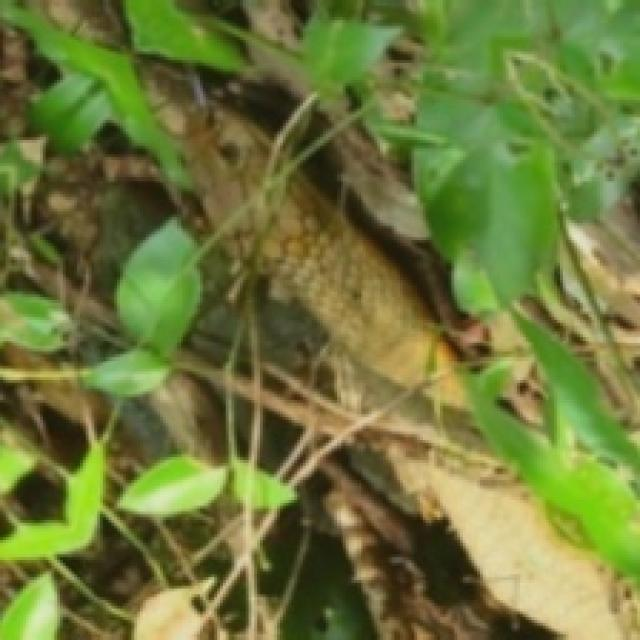king cobra: (270, 174, 456, 386), (430, 469, 624, 640), (184, 109, 268, 222)
